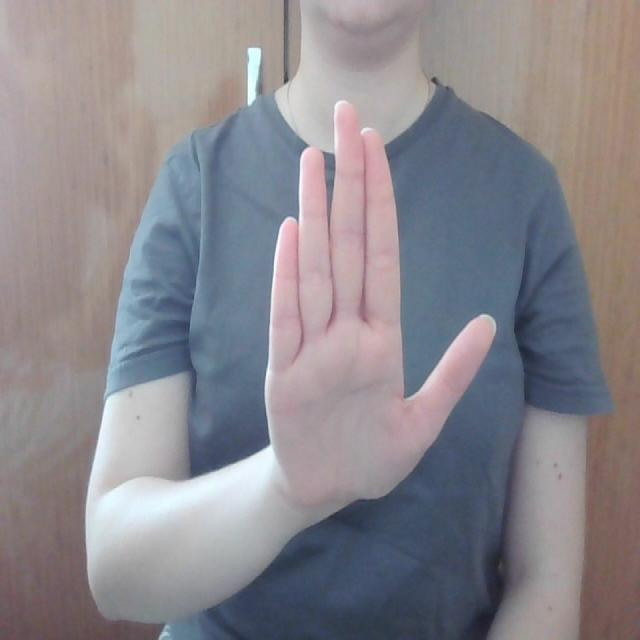Dur: (222, 90, 508, 514)
